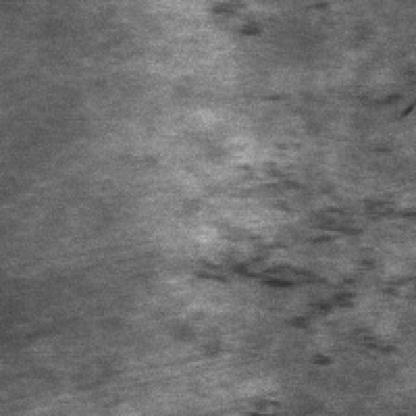rolled-in_scale: (191, 154, 414, 364), (208, 0, 274, 35)
